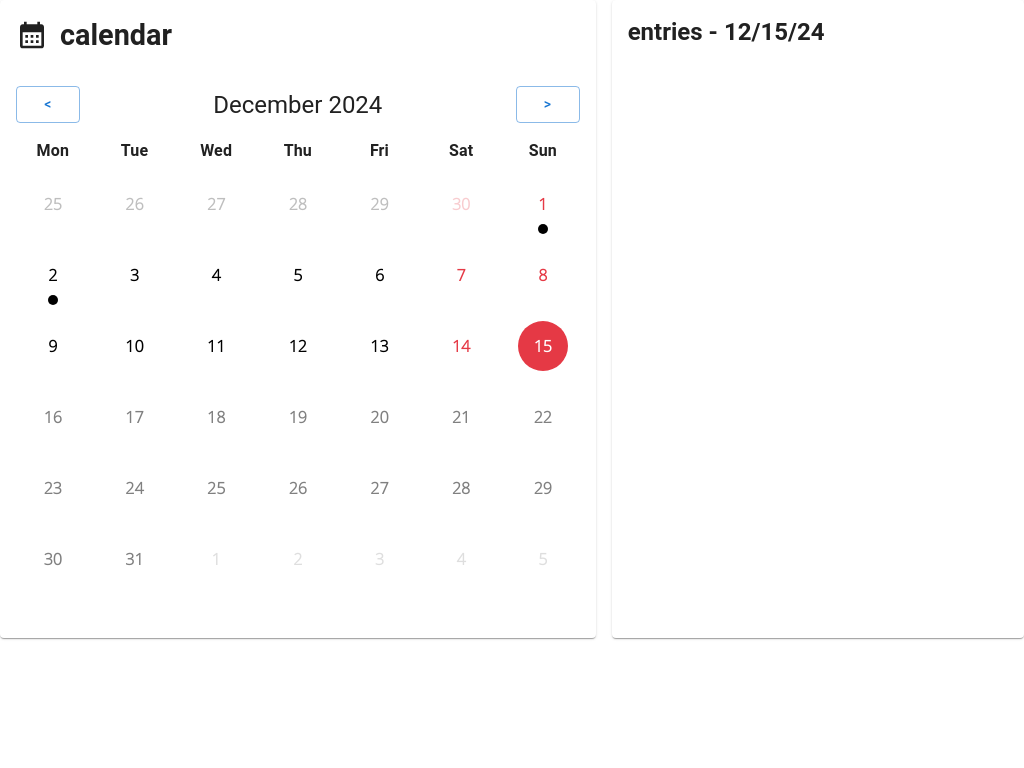
it: CalendarComponent › displays weight details for selected day
Click the 1st text "2".
click(53, 275)  # box [48, 264, 57, 286]
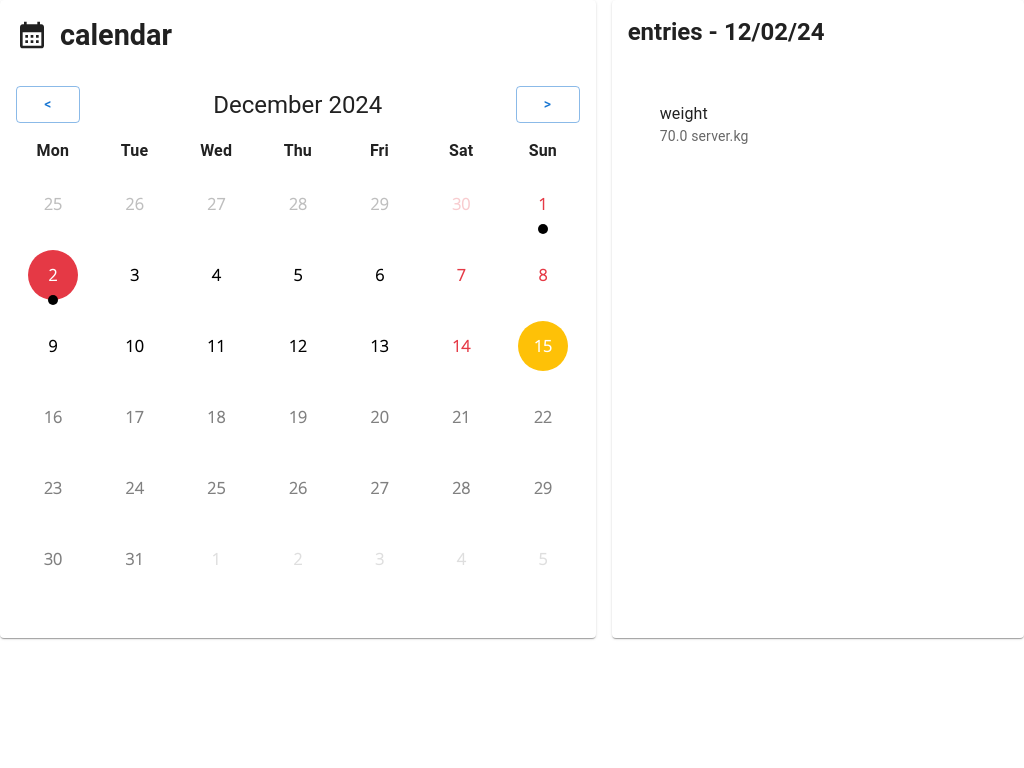
Check: the text "70.0 server.kg" is shown, box [660, 128, 748, 144]
